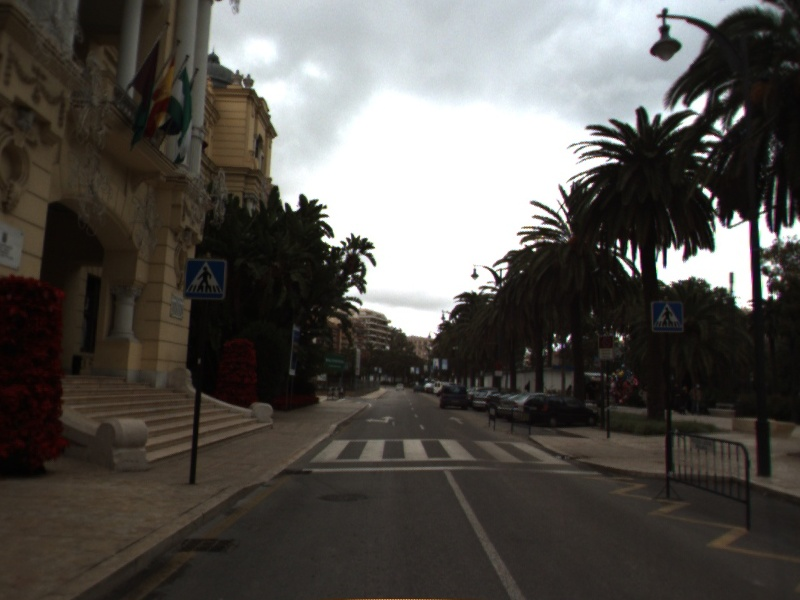STRAIGHT: (446, 414, 466, 426)
STRAIGHT_LEFT: (363, 414, 396, 426)
